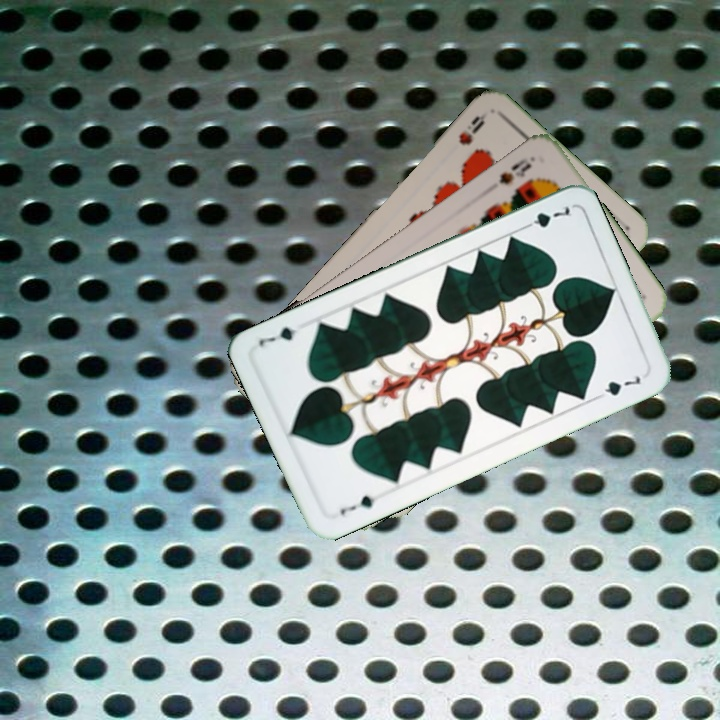G7: (517, 201, 575, 233), (336, 491, 378, 518)
H9: (454, 108, 490, 148)
S8: (495, 154, 535, 188)
